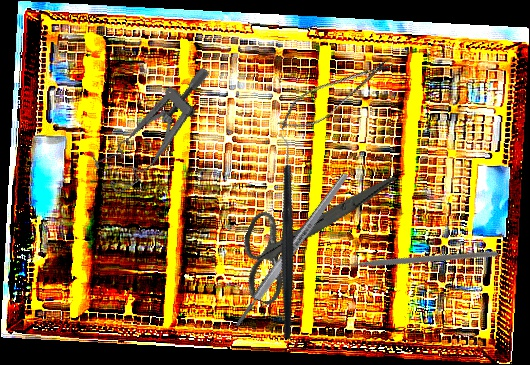Chopper: (210, 132, 356, 340), (330, 175, 499, 335)
Iris Scissors: (223, 131, 397, 332)
Micro Scissor: (271, 46, 399, 142)
Scalpel Handle: (231, 169, 352, 331)
Speculum: (80, 64, 238, 198)
